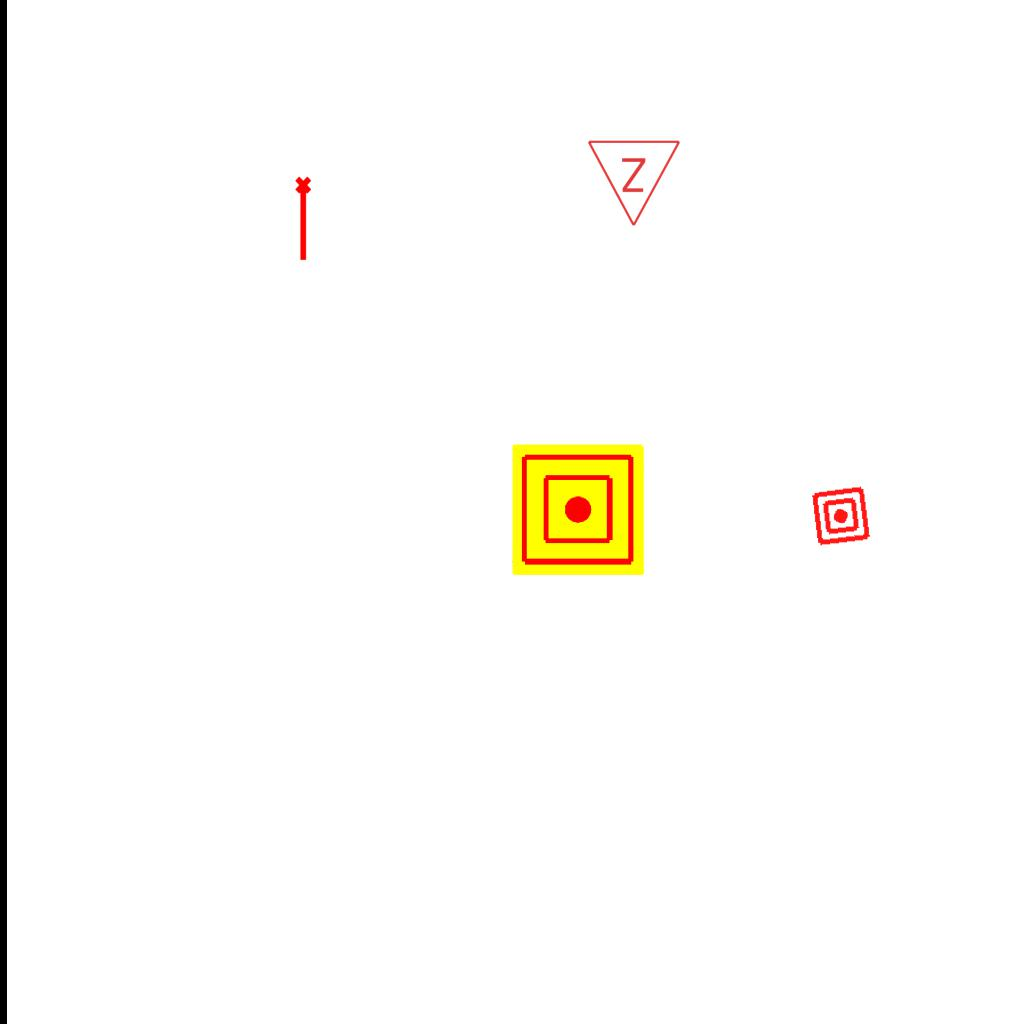ASR_Ansaugoeffnung: (293, 175, 316, 263)
NAM-Nichtautomatischer_Melder: (512, 444, 644, 576), (809, 484, 873, 548)
Zimmersignalleuchte: (586, 133, 684, 233)
